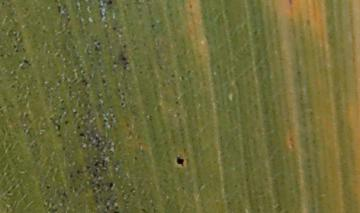tarspot: (175, 156, 185, 167), (21, 58, 32, 67), (107, 181, 115, 189), (78, 131, 86, 138), (105, 1, 116, 5)
